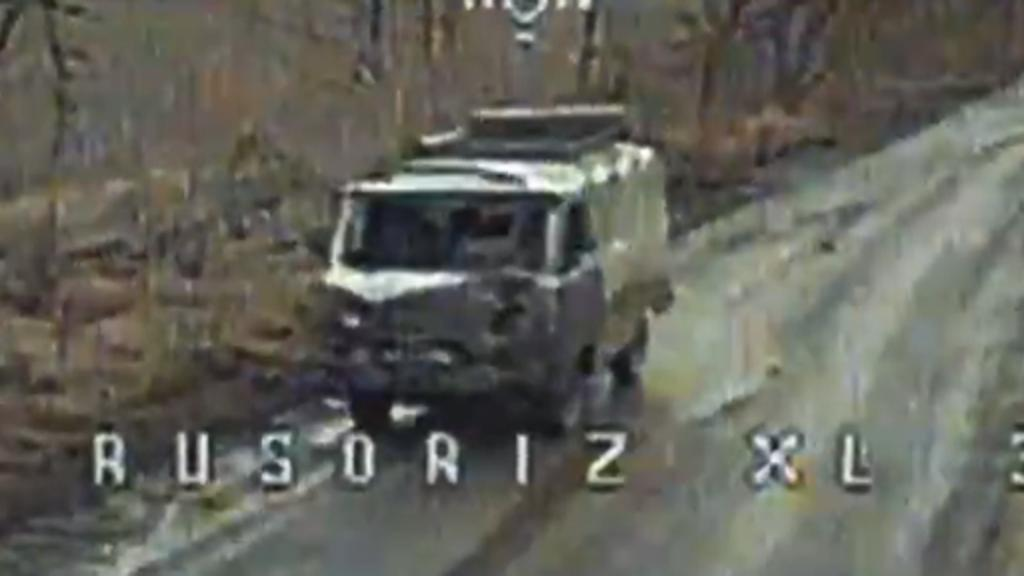CAR: (312, 91, 676, 432)
